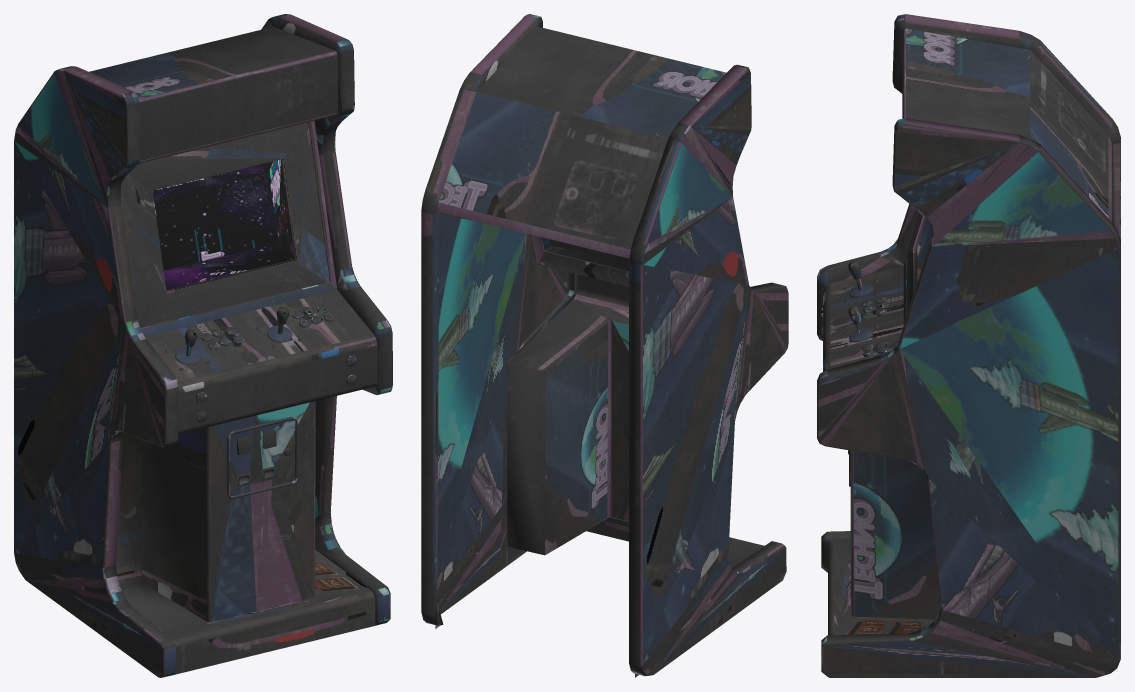
File: game2.fbx
The picture shows the model from 3 angles, left to right: view 1: azimuth 30°, elevation 25°; view 2: azimuth 150°, elevation 25°; view 3: azimuth 270°, elevation 25°; orthographic projection. The views are drawn at different scales.
Visible parts, largest first — view 1: ArcadeCabinet_03, base_PBR2; view 2: ArcadeCabinet_03; view 3: ArcadeCabinet_03.
Part boxes in pixels (<box>): ArcadeCabinet_03: <box>14,14,392,677</box>; base_PBR2: <box>152,159,295,290</box>; ArcadeCabinet_03: <box>421,14,788,677</box>; ArcadeCabinet_03: <box>817,14,1120,677</box>.
Size of the model in its own units: 81.93 by 190 by 94.62.
